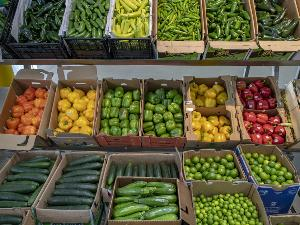bell_pepper: (0, 78, 54, 142), (56, 76, 96, 142), (143, 77, 181, 143), (100, 75, 140, 137), (156, 0, 204, 44), (15, 1, 61, 46), (65, 0, 109, 46), (240, 111, 294, 147), (209, 1, 253, 44), (256, 1, 300, 44), (109, 0, 152, 42), (236, 72, 286, 108), (188, 108, 234, 144), (188, 74, 231, 104)
cucumber: (40, 152, 104, 214), (2, 148, 52, 210), (105, 156, 182, 186)
lime: (191, 182, 267, 225), (184, 146, 248, 180), (243, 150, 299, 188)
zucchini: (107, 182, 180, 225)
